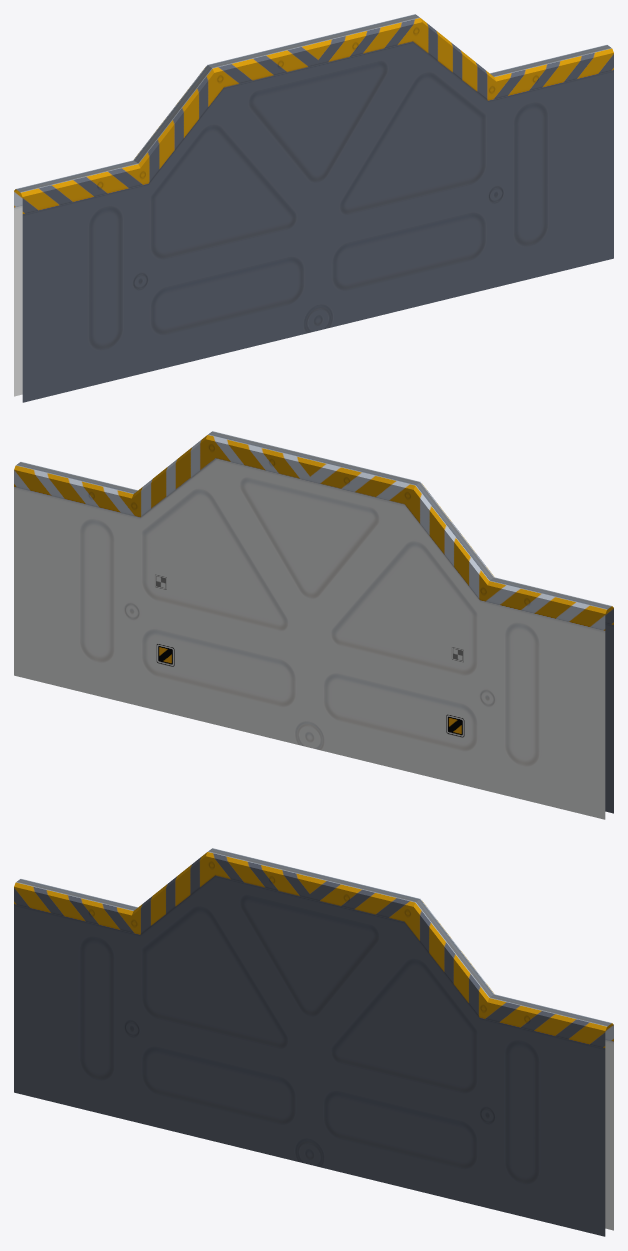
The model's file is Elevator_door_lower.fbx.
3 views of the same model, one above another, from view 1: azimuth 30°, elevation 25°; view 2: azimuth 150°, elevation 25°; view 3: azimuth 330°, elevation 25° (orthographic).
Parts seen in each view (by area): view 1: Elevator_door_lower; view 2: Elevator_door_lower; view 3: Elevator_door_lower.
Boxes of the visible parts, x1,y1,x2,y2 form: Elevator_door_lower: (14,14,613,402); Elevator_door_lower: (14,431,613,819); Elevator_door_lower: (14,848,613,1236).
Bounding box in the file's own units: 400 × 185 × 10.
